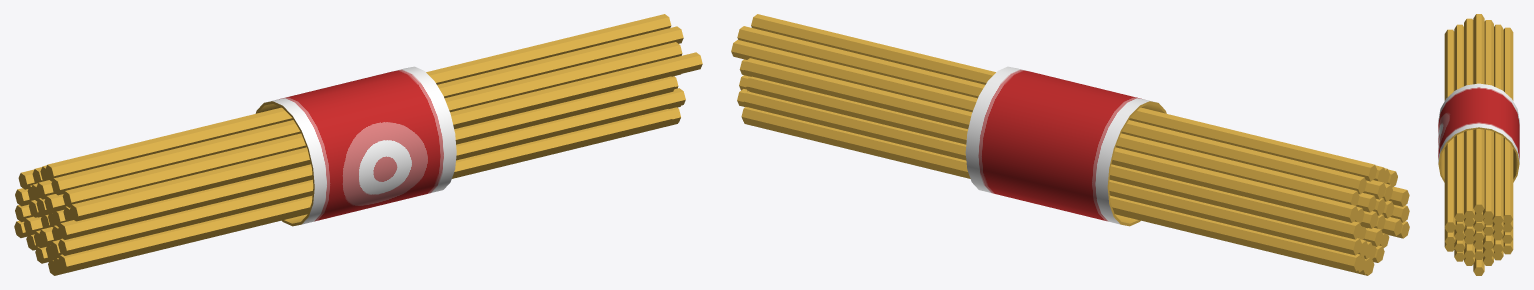
The model's file is Spaghetti.fbx.
3 renders of one model, left to right at view 1: azimuth 30°, elevation 25°; view 2: azimuth 150°, elevation 25°; view 3: azimuth 270°, elevation 25°, orthographic. The views are drawn at different scales.
Visible parts, largest first — view 1: Spaghetti; view 2: Spaghetti; view 3: Spaghetti.
Part boxes in pixels (bbox=[...]): Spaghetti: bbox=[14, 14, 702, 275]; Spaghetti: bbox=[731, 14, 1409, 275]; Spaghetti: bbox=[1438, 14, 1519, 275].
Size of the model in its own units: 0.269 by 0.047 by 0.047.
Materials: 2 (1 with a texture image).
